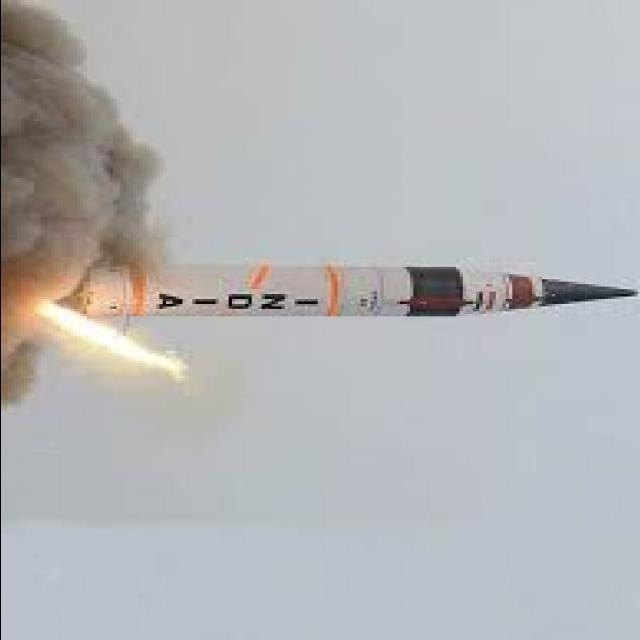Missile: (36, 261, 640, 328)
